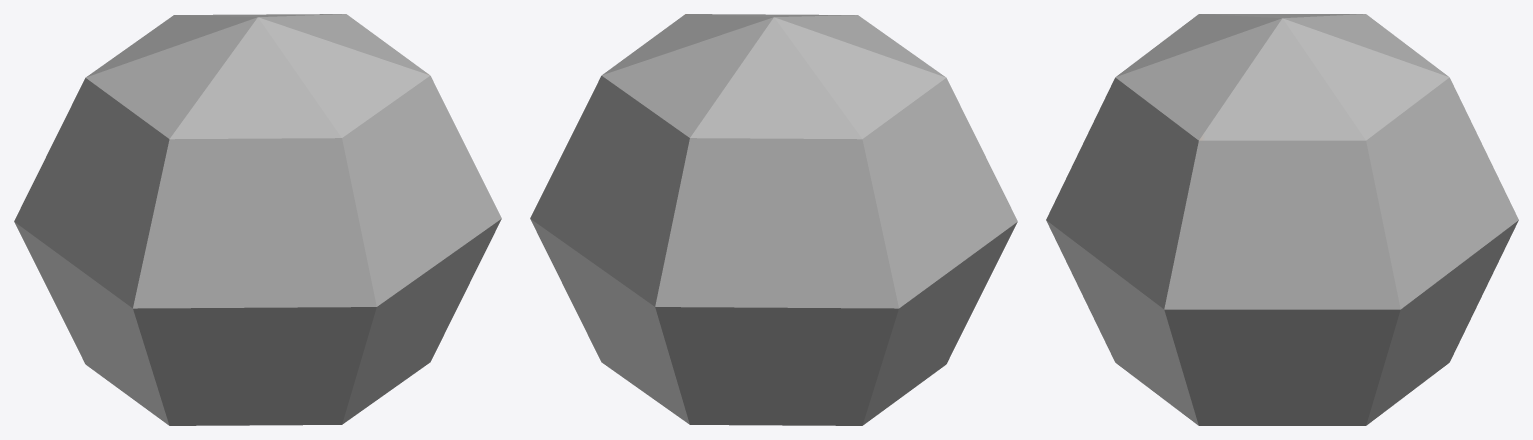
3 renders of one model, left to right at view 1: azimuth 30°, elevation 25°; view 2: azimuth 150°, elevation 25°; view 3: azimuth 270°, elevation 25°, orthographic.
Visible parts, largest first — view 1: Sphere; view 2: Sphere; view 3: Sphere.
Boxes of the visible parts, box(x1,y1,x2,y2) form: Sphere: box(14, 14, 501, 425); Sphere: box(530, 14, 1017, 425); Sphere: box(1046, 14, 1518, 425).
Size of the model in its own units: 193 by 203 by 216.
